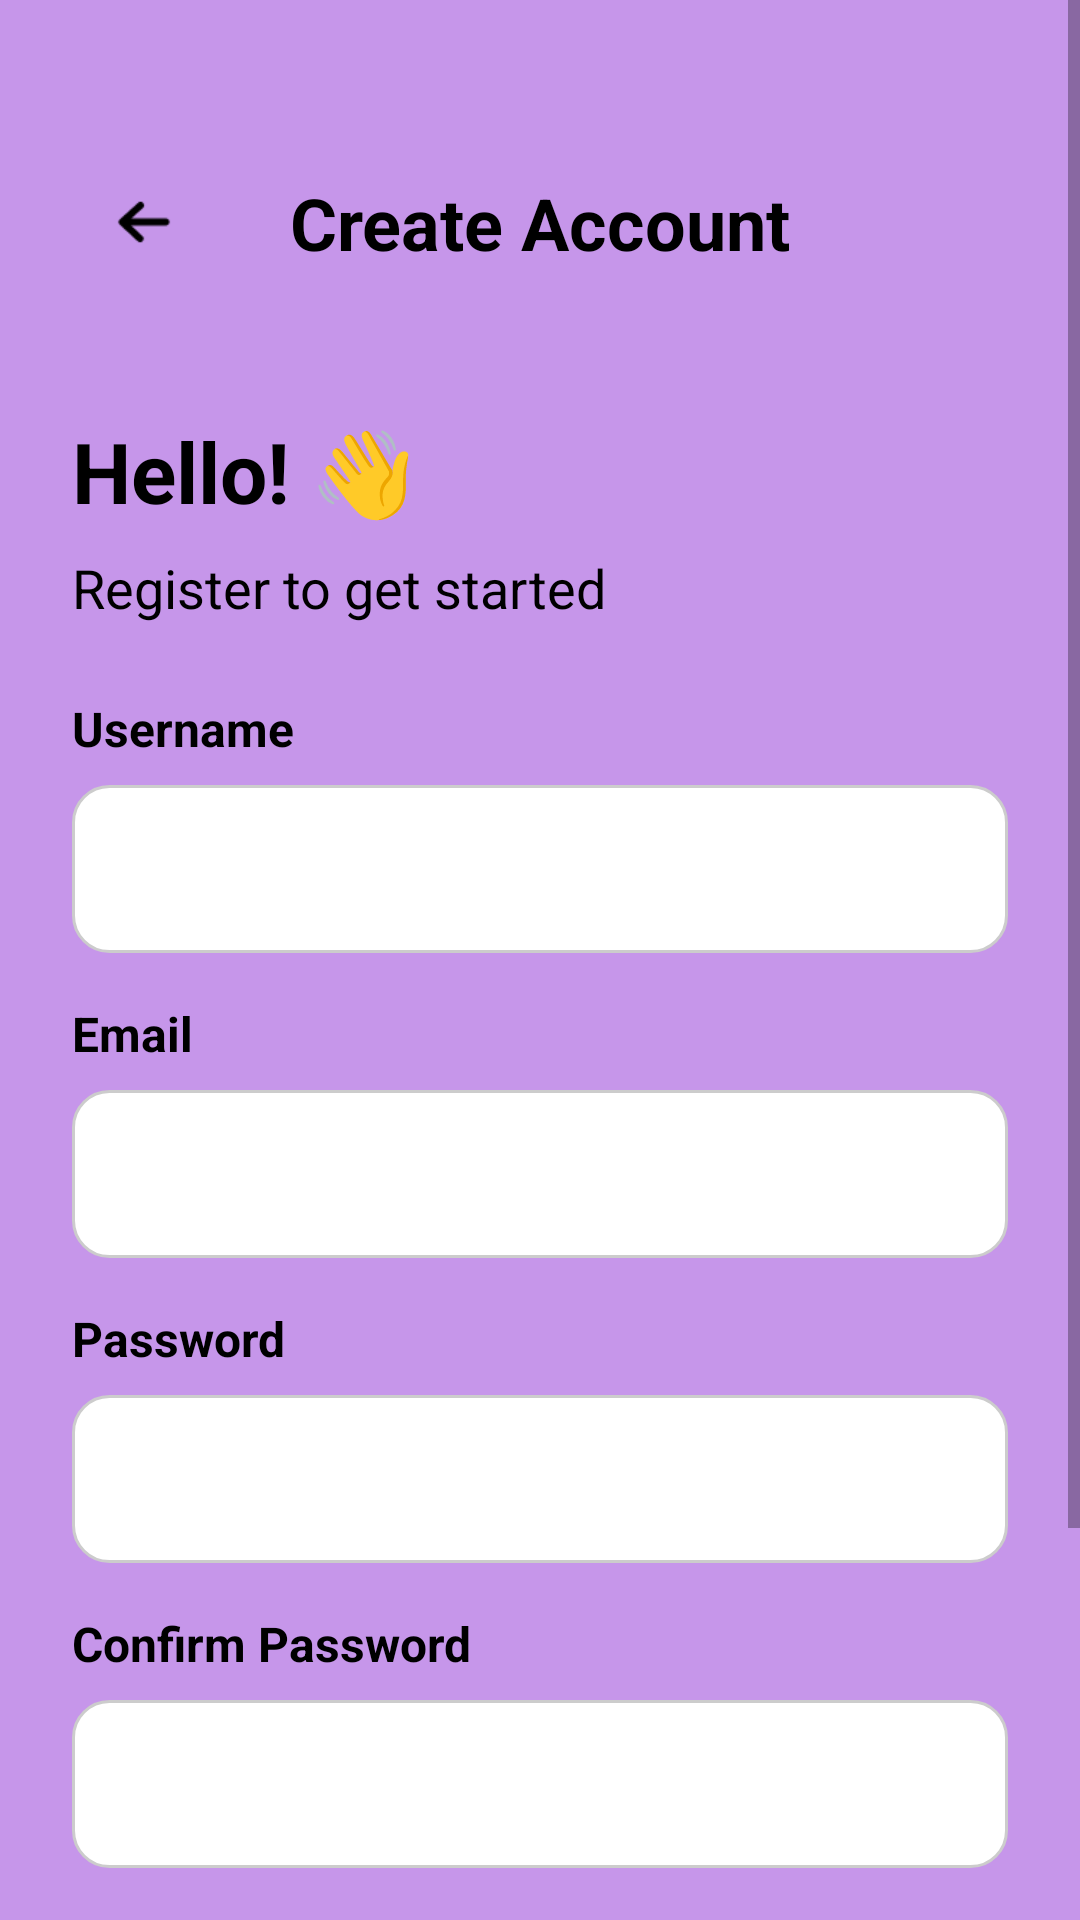

Named icons in this screenshot (1080px x 1920px) and their bounding boxes, (x1, y1, x2, y2):
back arrow: (118, 201, 170, 243)
